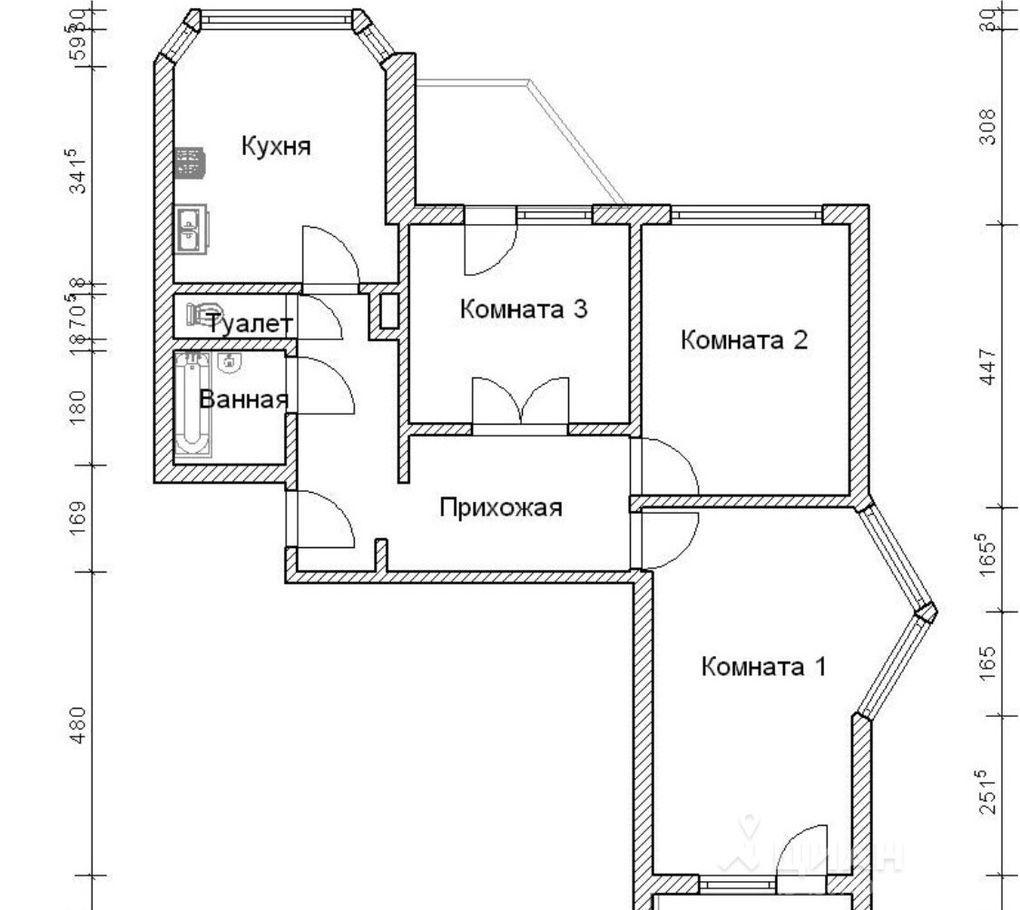bathroom: (174, 351, 286, 466), (174, 294, 297, 338)
bedroom: (643, 223, 849, 495), (409, 223, 631, 423)
kitchen: (175, 29, 399, 284)
living_room: (642, 506, 916, 875), (297, 294, 630, 571)
terrace: (417, 87, 619, 207)
